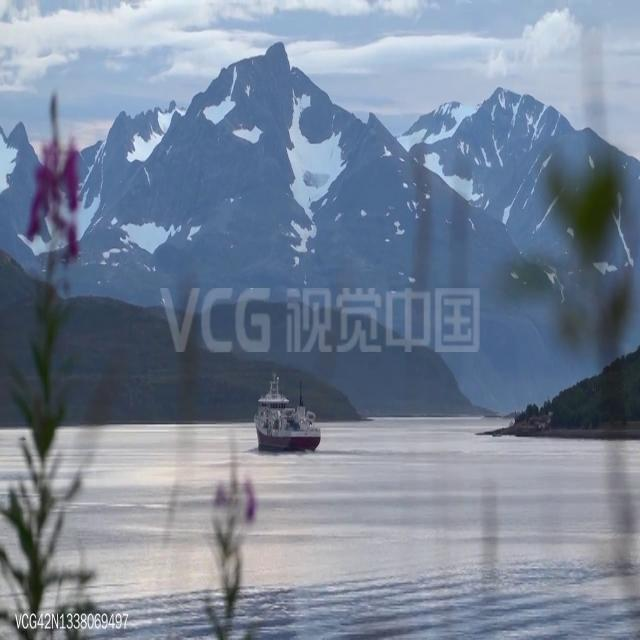houseboat: (256, 379, 322, 450)
